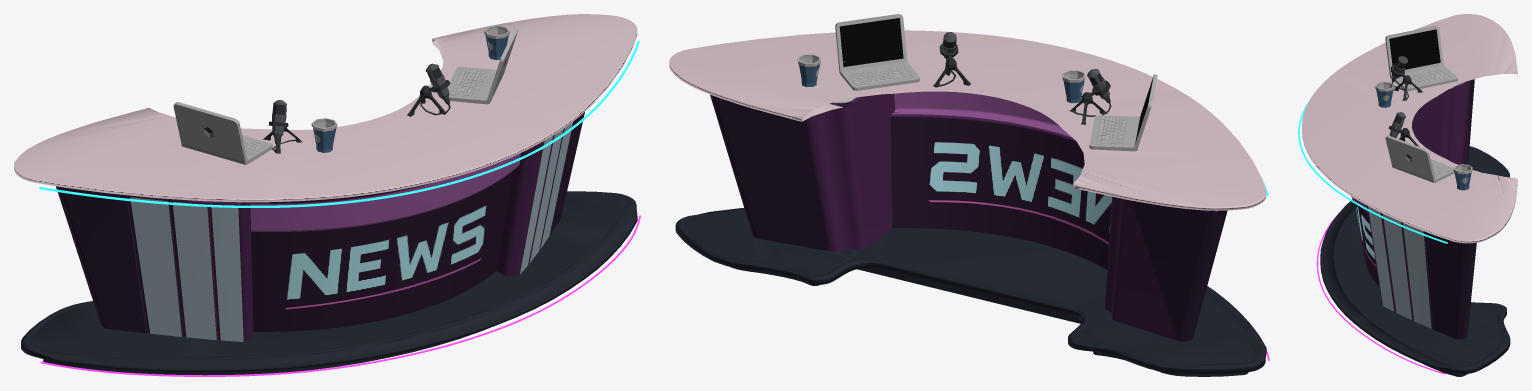
The model's file is newsDesk.glb.
The picture shows the model from 3 angles, left to right: view 1: azimuth 30°, elevation 25°; view 2: azimuth 150°, elevation 25°; view 3: azimuth 270°, elevation 25°; orthographic projection. The views are drawn at different scales.
Visible parts, largest first — view 1: NewsDesk_Body.004, NewsDesk_Body.005, NewsDesk_Body.001, NewsDesk_Body, NewsDesk_Body.002, NewsDesk_Body.003, Laptop.001, Laptop, Neon_Upper_Cyan, Neon_Base_Magenta, Microphone, Microphone.001 (+2 smaller); view 2: NewsDesk_Body.004, NewsDesk_Body, NewsDesk_Body.005, NewsDesk_Body.001, Laptop, NewsDesk_Body.003, Laptop.001, Microphone.001, Microphone, CoffeeCup, CoffeeCup.001; view 3: NewsDesk_Body.004, NewsDesk_Body.005, NewsDesk_Body, NewsDesk_Body.002, Laptop.001, Laptop, NewsDesk_Body.001, Neon_Upper_Cyan, Microphone.001, Neon_Base_Magenta, Microphone, CoffeeCup (+1 smaller).
Part boxes in pixels (<box>): NewsDesk_Body.004: <box>14,14,637,202</box>; NewsDesk_Body.005: <box>21,191,637,375</box>; NewsDesk_Body.001: <box>251,171,512,331</box>; NewsDesk_Body: <box>56,112,584,341</box>; NewsDesk_Body.002: <box>130,122,572,341</box>; NewsDesk_Body.003: <box>250,153,520,231</box>; Laptop.001: <box>173,102,272,164</box>; Laptop: <box>447,29,518,104</box>; Neon_Upper_Cyan: <box>39,40,639,207</box>; Neon_Base_Magenta: <box>40,215,640,376</box>; Microphone: <box>407,63,450,116</box>; Microphone.001: <box>263,100,302,153</box>; NewsDesk_Body.004: <box>669,30,1266,210</box>; NewsDesk_Body: <box>710,93,1227,341</box>; NewsDesk_Body.005: <box>675,208,1266,376</box>; NewsDesk_Body.001: <box>890,117,1111,269</box>; Laptop: <box>835,14,919,90</box>; NewsDesk_Body.003: <box>892,91,1071,137</box>; Laptop.001: <box>1089,74,1157,151</box>; Microphone.001: <box>1069,69,1111,124</box>; Microphone: <box>933,32,970,87</box>; CoffeeCup: <box>1062,70,1085,103</box>; CoffeeCup.001: <box>797,54,820,86</box>; NewsDesk_Body.004: <box>1302,14,1517,243</box>; NewsDesk_Body.005: <box>1320,146,1510,376</box>; NewsDesk_Body: <box>1367,79,1476,339</box>; NewsDesk_Body.002: <box>1368,206,1431,328</box>; Laptop.001: <box>1385,26,1457,91</box>; Laptop: <box>1385,135,1454,182</box>; NewsDesk_Body.001: <box>1355,204,1379,285</box>; Neon_Upper_Cyan: <box>1298,100,1447,243</box>; Microphone.001: <box>1391,55,1422,100</box>; Neon_Base_Magenta: <box>1316,215,1445,374</box>; Microphone: <box>1388,112,1419,146</box>; CoffeeCup: <box>1375,81,1394,107</box>.
Size of the model in its own units: 0.9995 by 0.3782 by 0.411.
14 materials, 5 textured.
